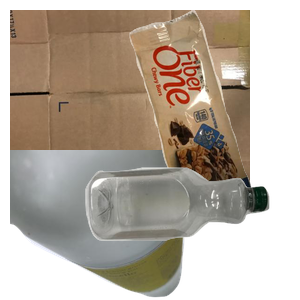cardboard: (10, 10, 250, 190)
glass: (10, 150, 190, 300)
plastic: (83, 165, 300, 300)
trash: (127, 10, 300, 190)
